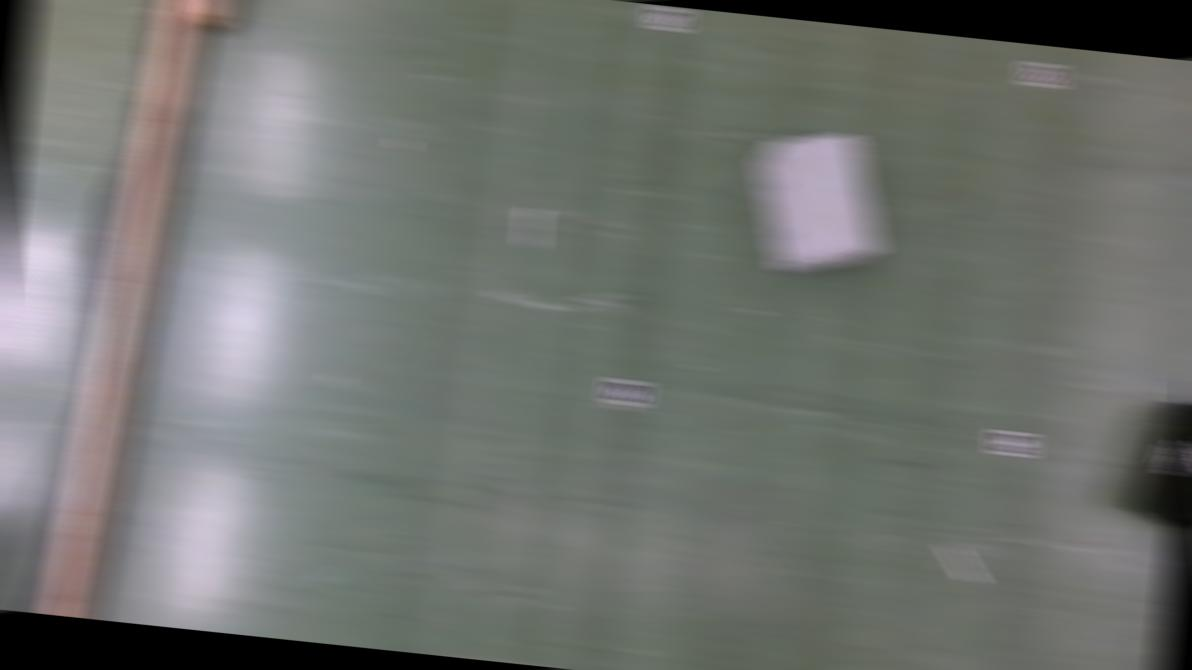probes: (942, 546, 981, 584), (519, 208, 543, 251)
rako: (742, 124, 892, 284), (1122, 397, 1192, 538)
